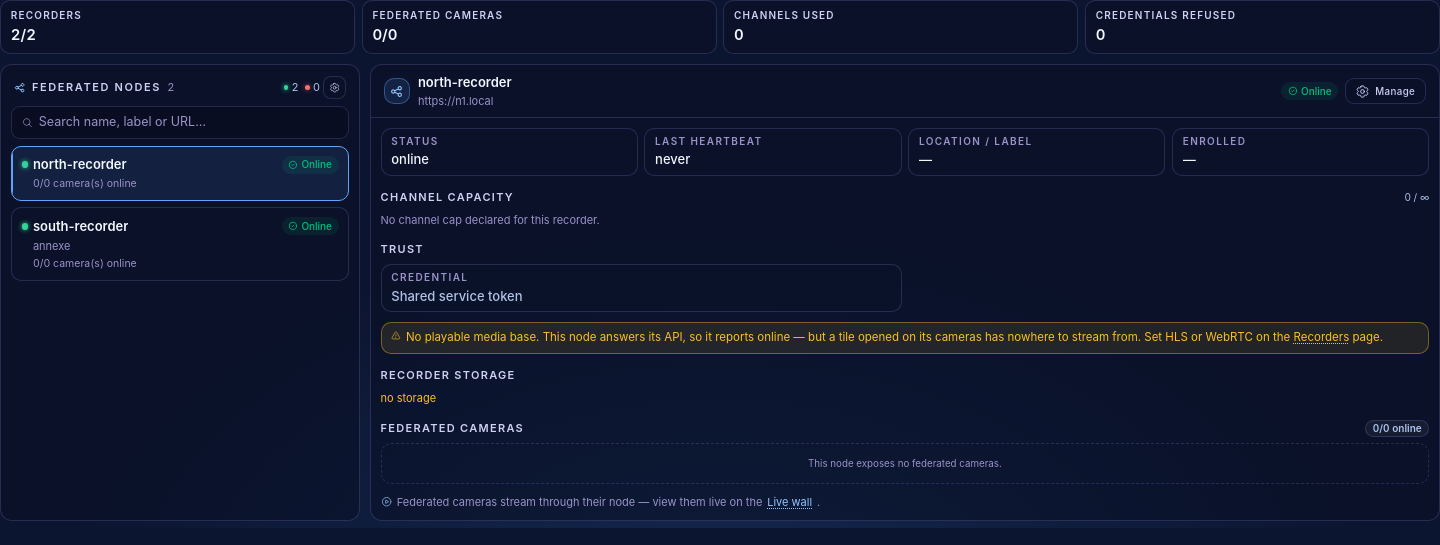
Test: which node is shown › keeps the operator's choice when the list refetches
Click the button "south-recorder Online annexe 0/0 camera(s) online" at (81, 226), box x1=11 y1=207 x2=349 y2=281
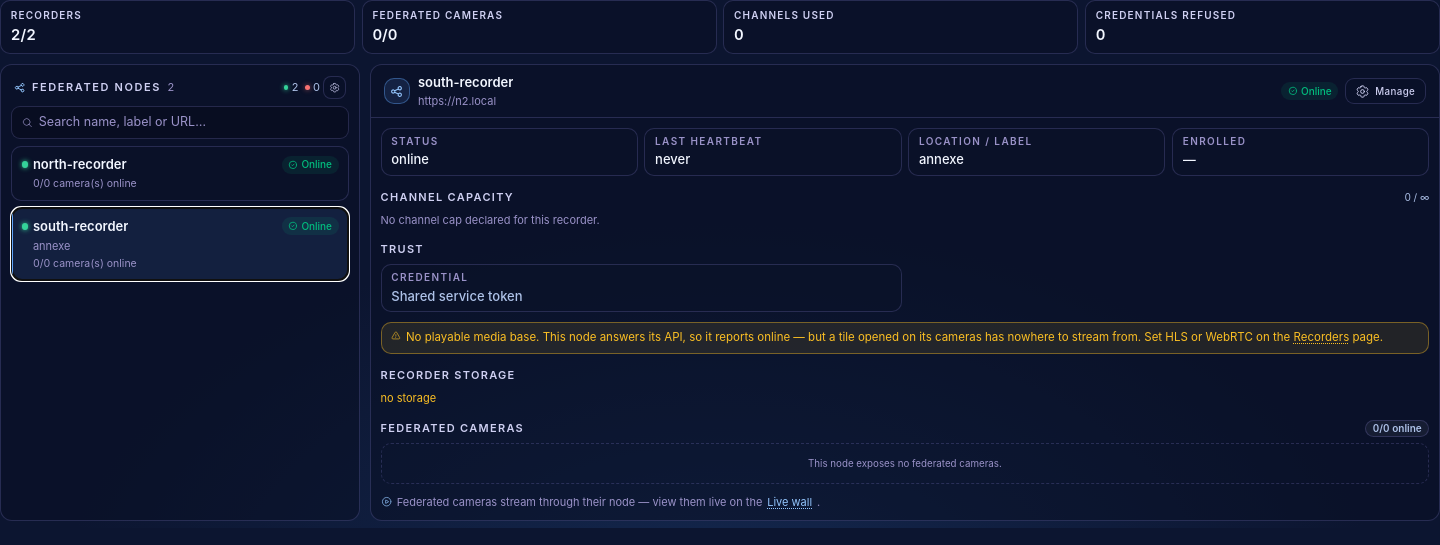
Now the heading "south-recorder" is shown, box x1=418 y1=73 x2=513 y2=92
